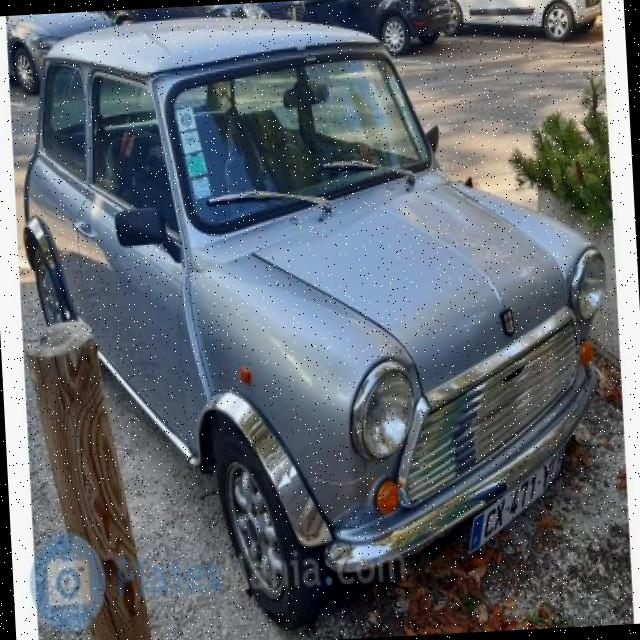Autre: (468, 435, 571, 548)
